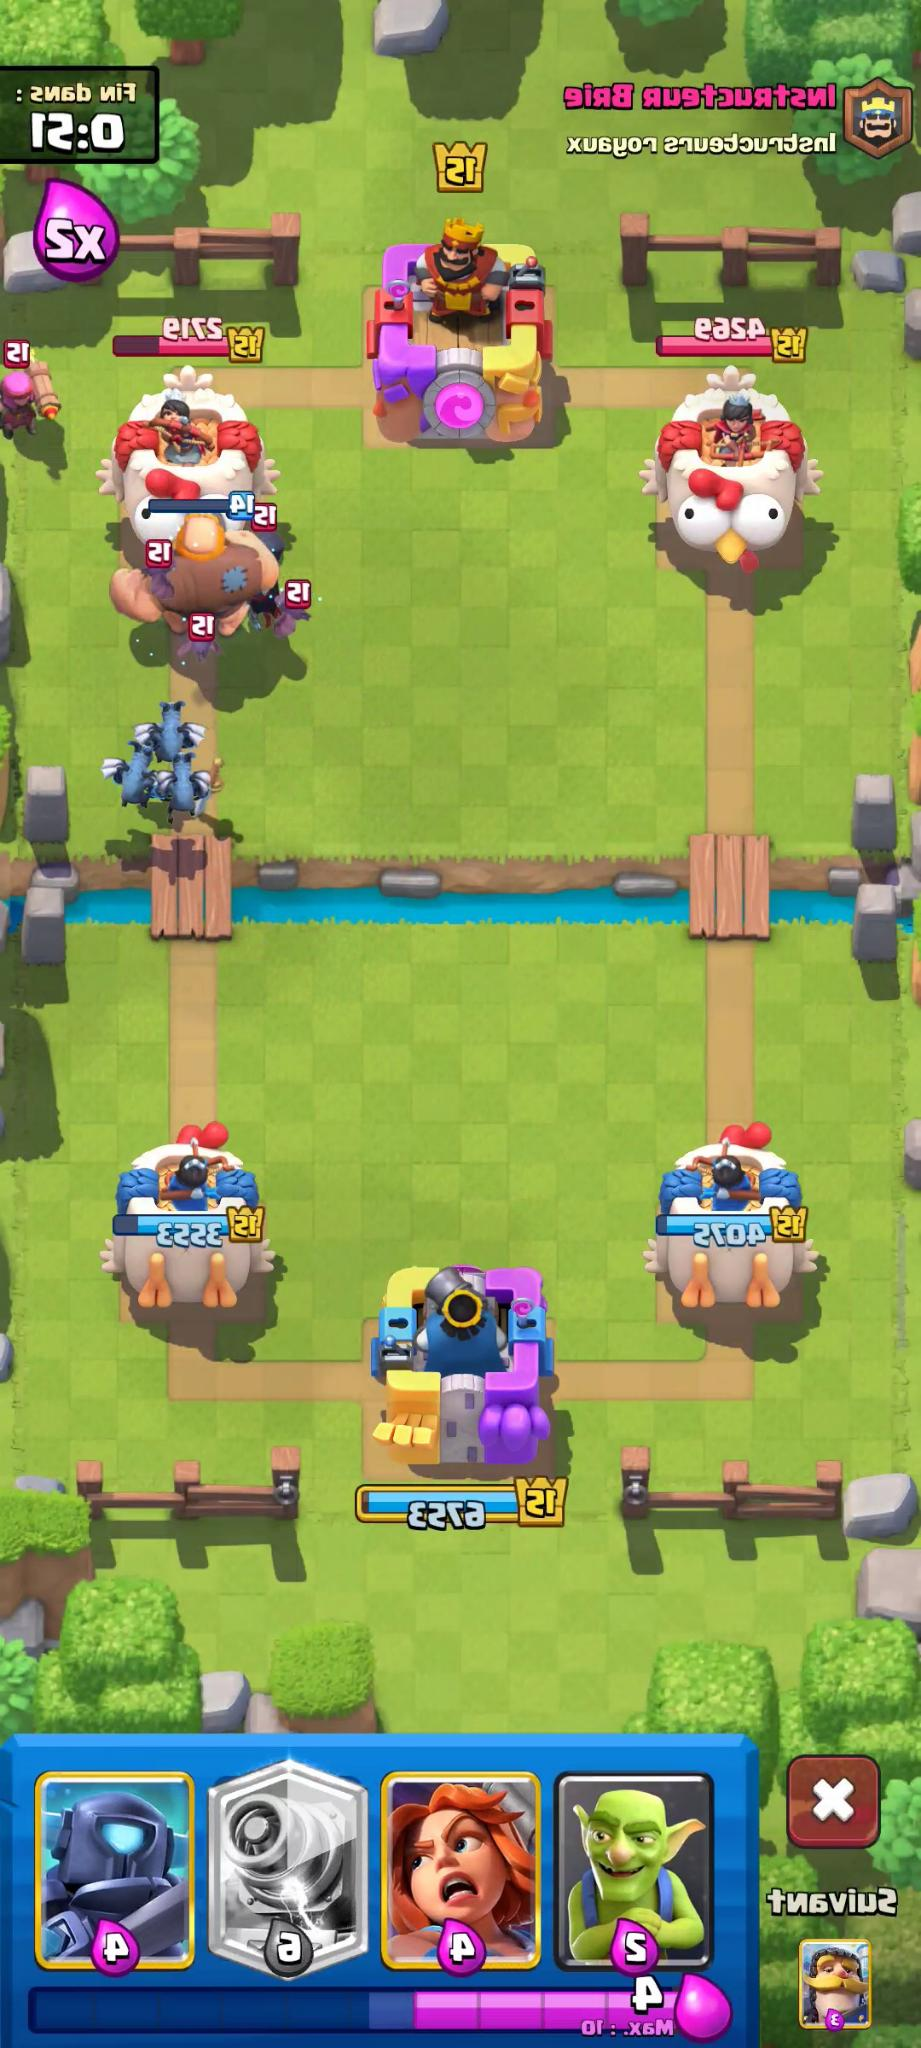bat: (244, 573, 334, 652), (167, 613, 243, 687), (97, 547, 192, 606), (229, 500, 297, 581)
gargouille: (146, 744, 218, 822), (95, 747, 153, 825), (129, 695, 189, 765)
geant: (97, 492, 273, 673)
